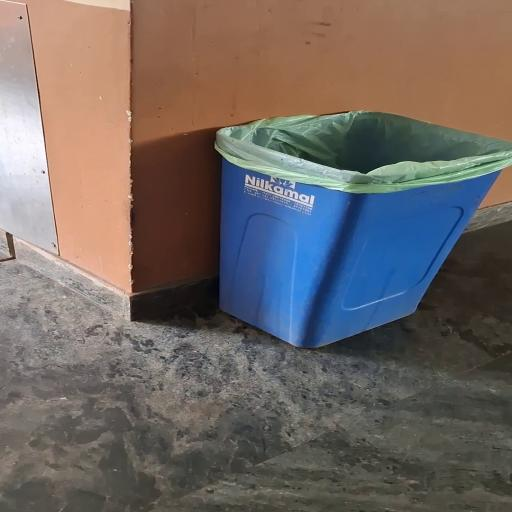Nilkamal-dustbin-detection: (217, 111, 512, 348)
